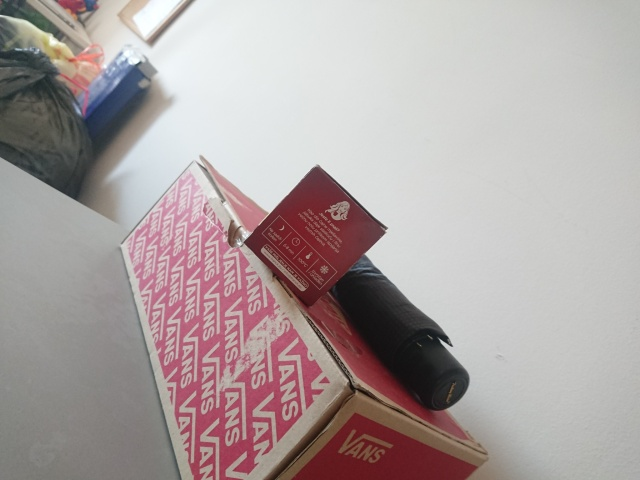Franck Apple Cinnamon Tea 60g: (241, 161, 389, 308)
